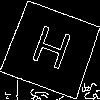H: (26, 24, 74, 80)
